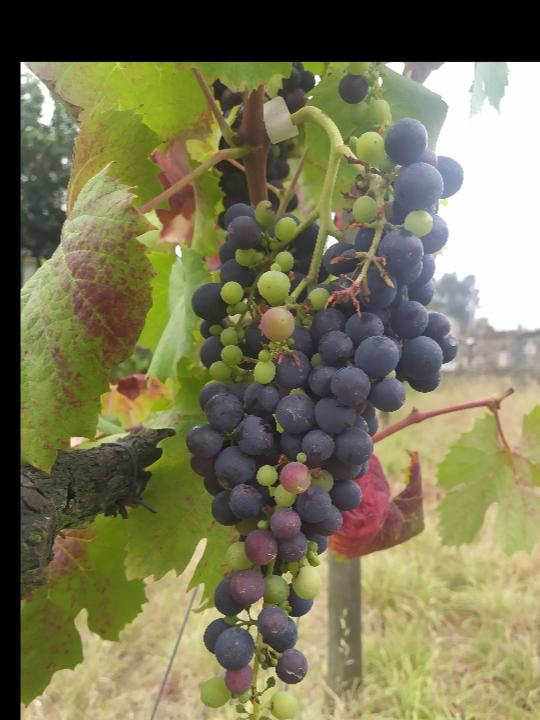grape: (185, 117, 464, 720)
